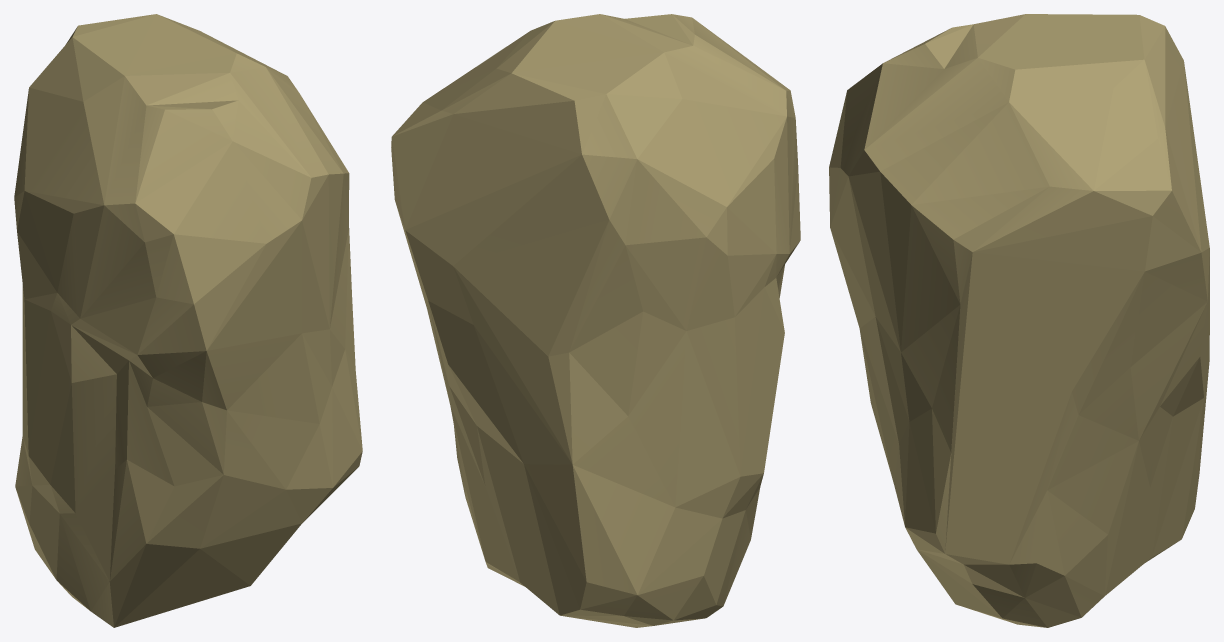
Rendered from SM_small_rock_14.fbx.
3 views of the same model, side by side, from view 1: azimuth 30°, elevation 25°; view 2: azimuth 150°, elevation 25°; view 3: azimuth 270°, elevation 25° (orthographic). The views are drawn at different scales.
Visible parts, largest first — view 1: small_rock_14; view 2: small_rock_14; view 3: small_rock_14.
Boxes of the visible parts, left/top/right/bottom form: small_rock_14: left=14, top=14, right=362, bottom=627; small_rock_14: left=391, top=14, right=800, bottom=627; small_rock_14: left=829, top=14, right=1209, bottom=627.
Size of the model in its own units: 68.3 by 123 by 74.6.
